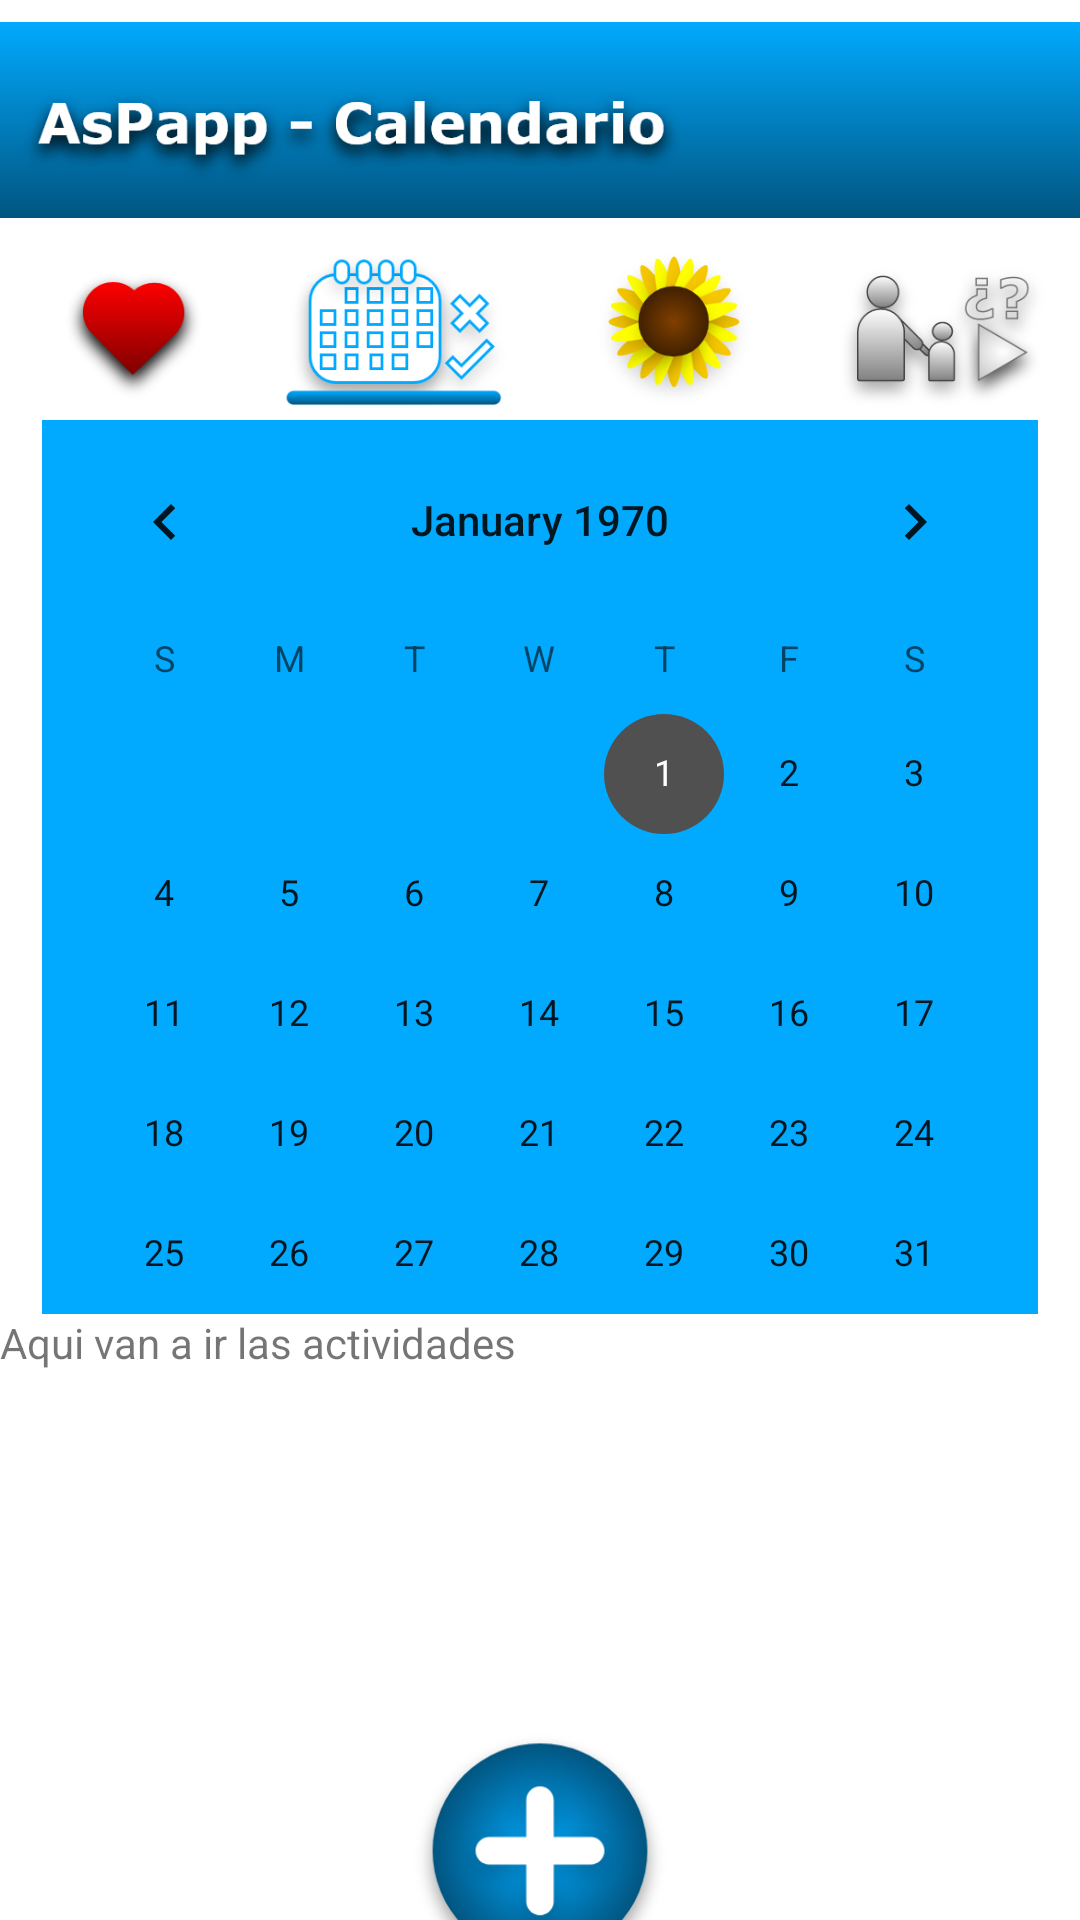

Named icons in this screenshot (1080 x 1920) and their centers, point (x, y):
amorometros: point (134, 335)
calendario: point (394, 332)
